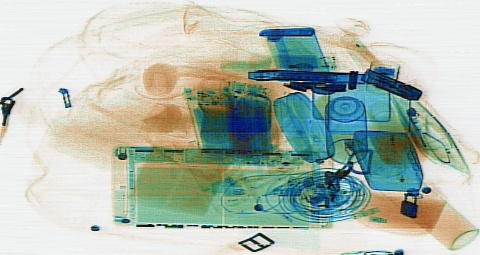pressure: (366, 151, 476, 251), (324, 95, 368, 165)
